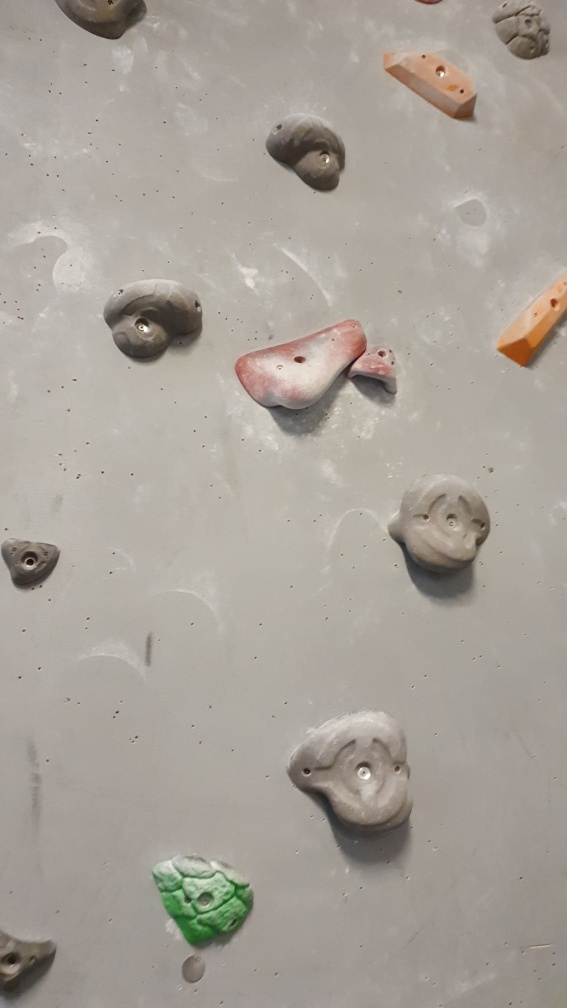Crimp: (1, 537, 62, 590)
Hand Start: (178, 955, 213, 989)
Jug: (283, 706, 419, 838), (384, 470, 493, 578), (104, 279, 205, 364), (265, 110, 352, 192), (490, 1, 556, 62)
Pinch: (379, 44, 479, 123), (494, 266, 567, 371)
